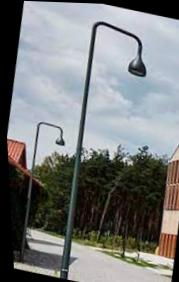Animal: (35, 1, 174, 282), (4, 107, 75, 261)
